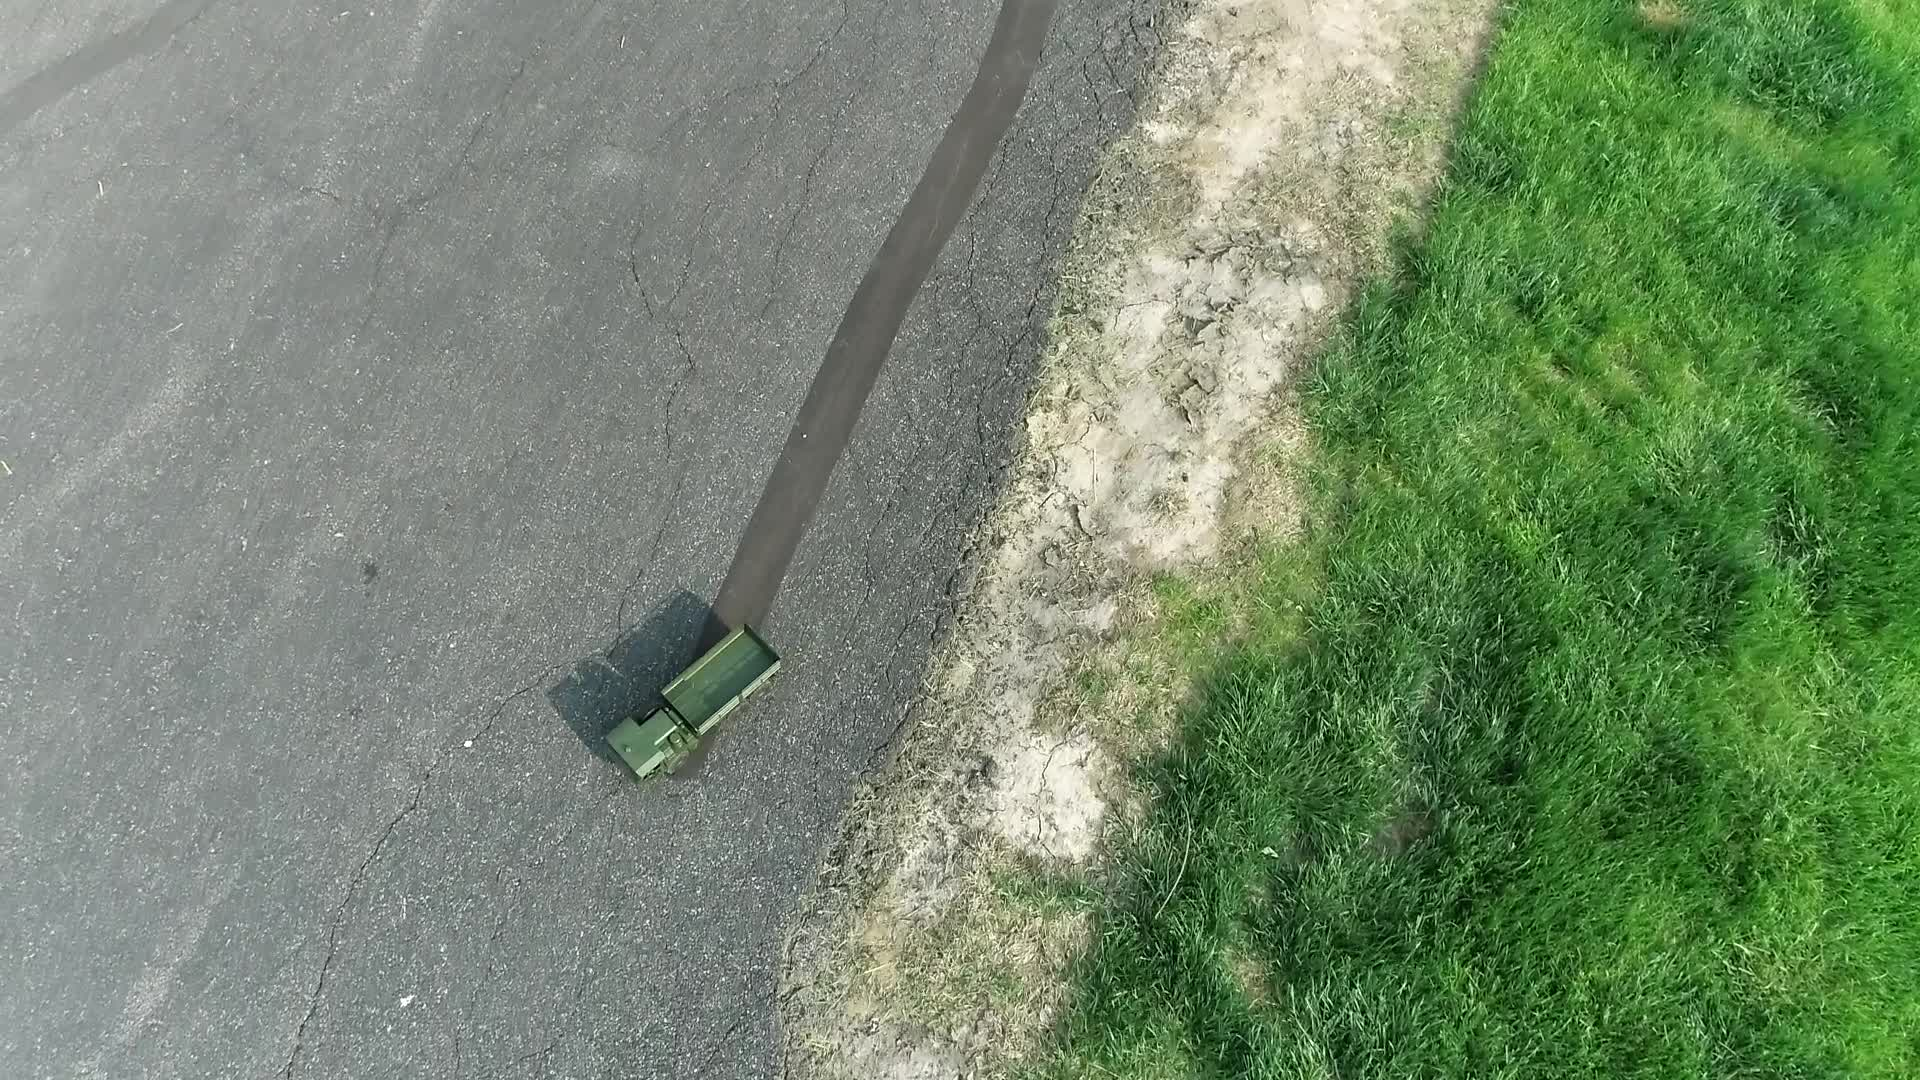transporter9: (603, 616, 786, 785)
